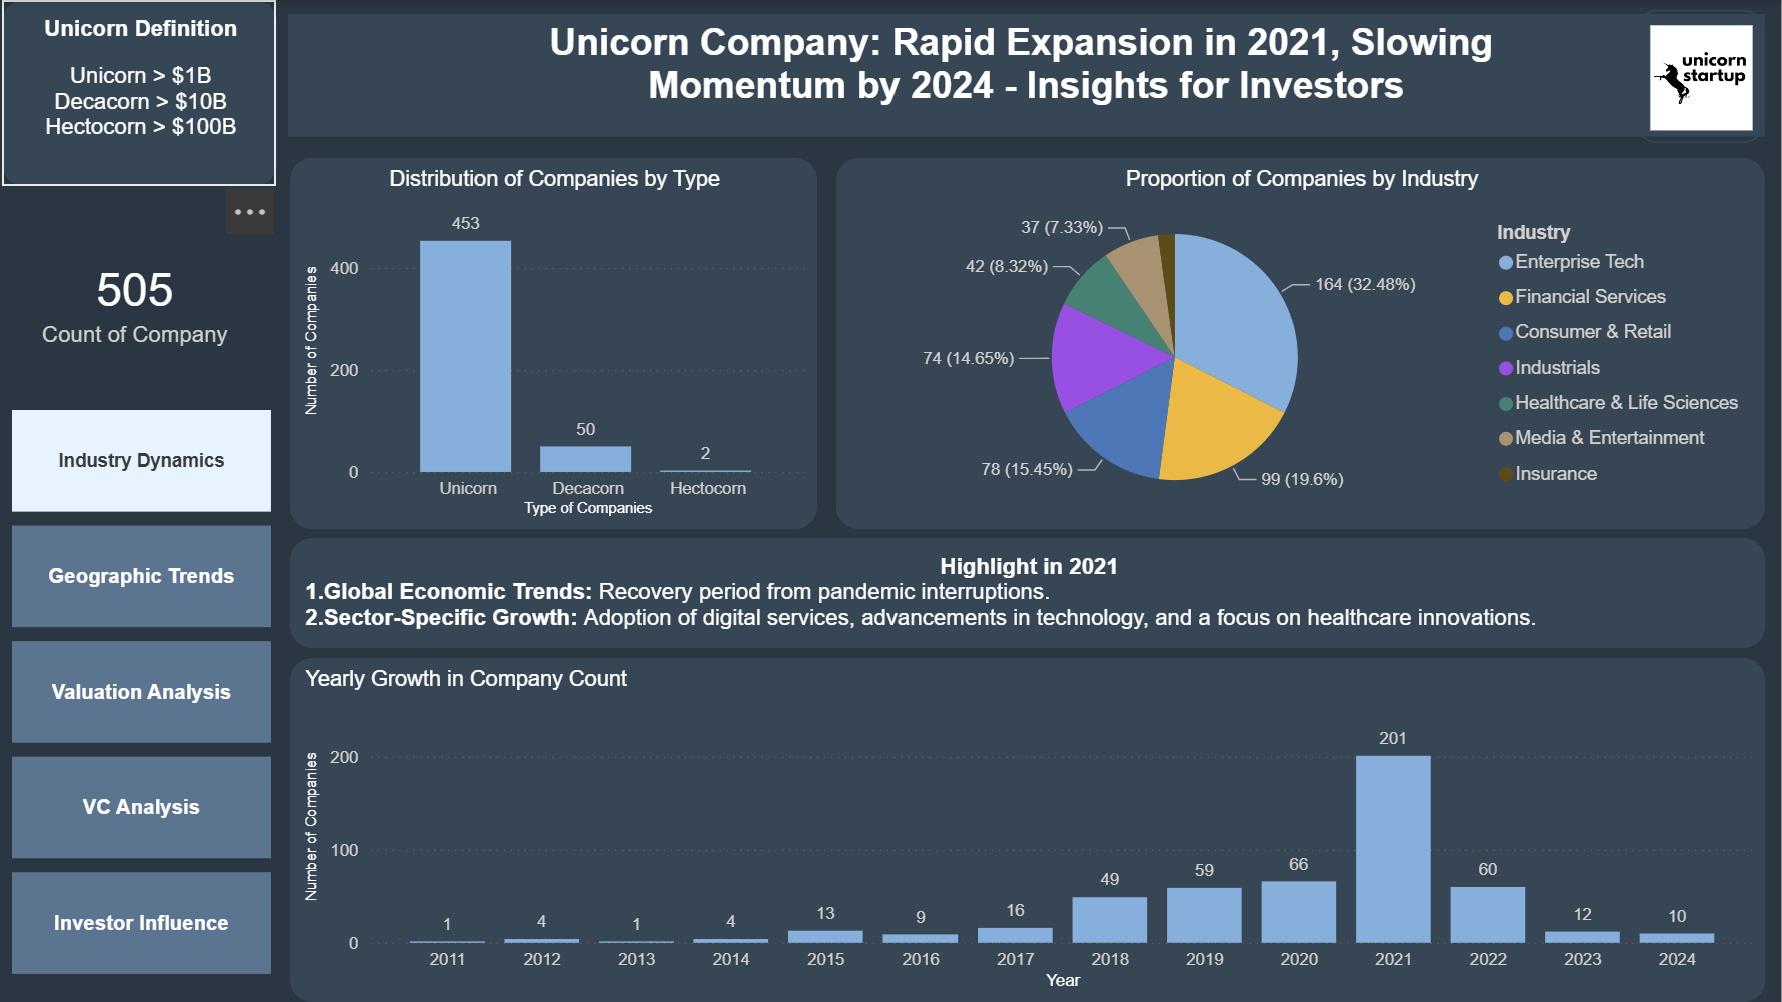

This screenshot's page, from the dashboard's own definition file:
{"tool":"powerbi","page":{"name":"Industry Dynamics","canvas":[1280,720],"ordinal":1},"visuals":[{"type":"textbox","box":[208.9,10,1060,87.8],"z":0},{"type":"columnChart","title":"Distribution of Companies by Type","fields":{"Category":["Merged Unicorn Dataset.Type"],"Y":["CountNonNull(Merged Unicorn Dataset.Company)"]},"box":[209.1,113.8,378.4,266.5],"z":1000},{"type":"pieChart","title":"Proportion of Companies by Industry","fields":{"Category":["Merged Unicorn Dataset.Industry"],"Y":["CountNonNull(Merged Unicorn Dataset.Company)"]},"box":[602.1,113.8,666.3,266.5],"z":2000},{"type":"pageNavigator","box":[9.5,295.1,186.8,408.2],"z":3000},{"type":"textbox","box":[209.1,387.1,1059.2,78.8],"z":4000},{"type":"textbox","box":[2.9,0,197.4,133.3],"z":5000},{"type":"image","box":[1174.4,6.7,93.3,95.6],"z":6000},{"type":"clusteredColumnChart","title":"Yearly Growth in Company Count","fields":{"Category":["Merged Unicorn Dataset.Date Joined.Variation.Date Hierarchy.Year"],"Y":["CountNonNull(Merged Unicorn Dataset.Company)"]},"box":[209.1,472.7,1059.2,247.1],"z":7000},{"type":"card","fields":{"Values":["CountNonNull(Merged Unicorn Dataset.Company)"]},"box":[0,174.4,196.7,84.4],"z":8000}]}

Visuals, with their boxes in screenshot pixels (x1, y1, x2, y2), scaled from the page's 1280x720 canvas onto the 1782x1002 screenshot:
textbox: <box>291,14,1767,136</box>
"Distribution of Companies by Type" columnChart: <box>291,158,818,529</box>
"Proportion of Companies by Industry" pieChart: <box>838,158,1766,529</box>
pageNavigator: <box>13,411,273,979</box>
textbox: <box>291,539,1766,648</box>
textbox: <box>4,0,279,186</box>
image: <box>1635,9,1765,142</box>
"Yearly Growth in Company Count" clusteredColumnChart: <box>291,658,1766,1001</box>
card - CountNonNull(Merged Unicorn Dataset.Company): <box>0,243,274,360</box>
